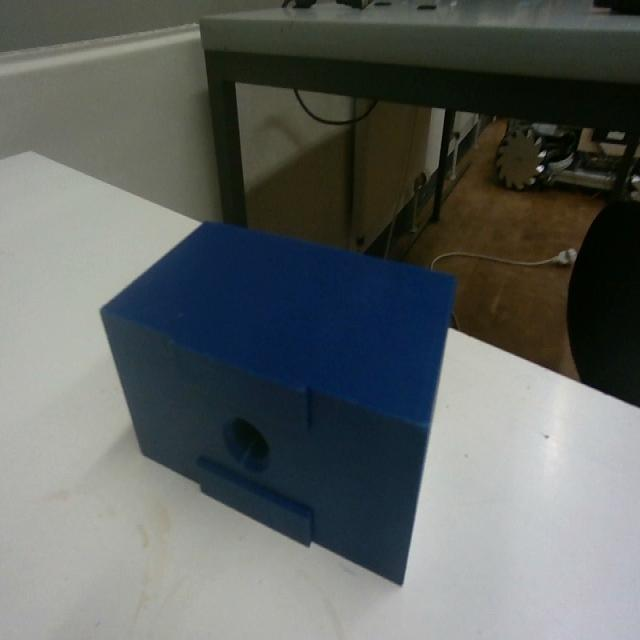Blue Cuboid: (97, 214, 458, 586)
